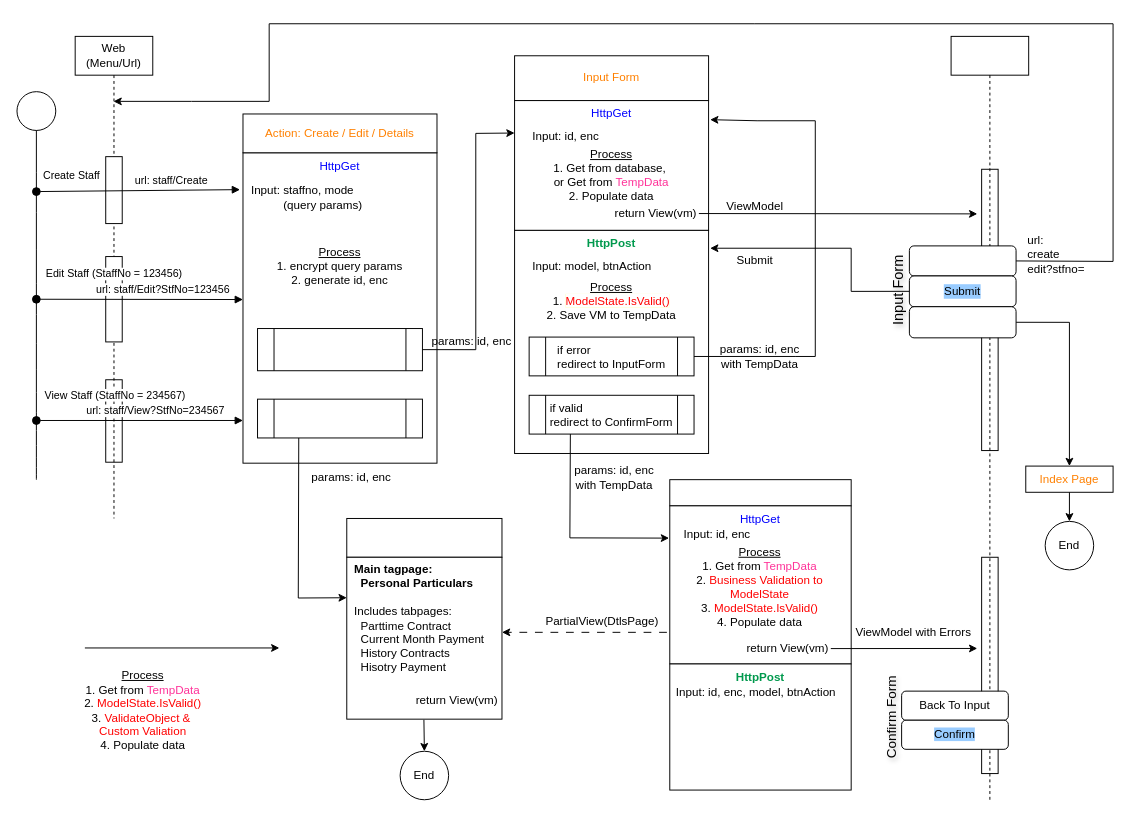
Some shapes in this 1138 by 817 pixel diagram are drawn without their labels. Here are the shapes that lost their labels. From the top down, the box of each, then its label:
(16, 91, 56, 130): Start
(908, 245, 1016, 276): Reset
(908, 306, 1016, 338): Exit / Close
(257, 328, 422, 371): if create, edit redirect to InputForm
(257, 398, 422, 438): if view redirect to Dtls Page
(950, 35, 1029, 800): View (Web)
(669, 479, 851, 506): Confirm Form / Dtls Page
(346, 517, 502, 557): Personal Particulars includes Dtls Page
